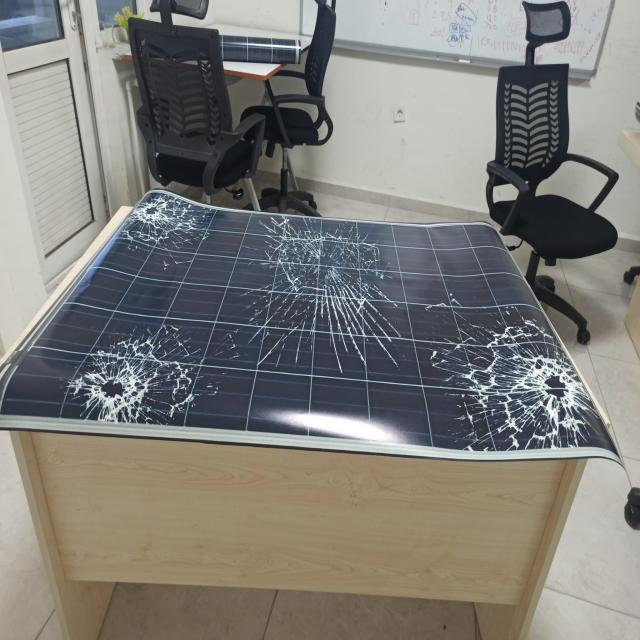faulty: (4, 187, 635, 502)
